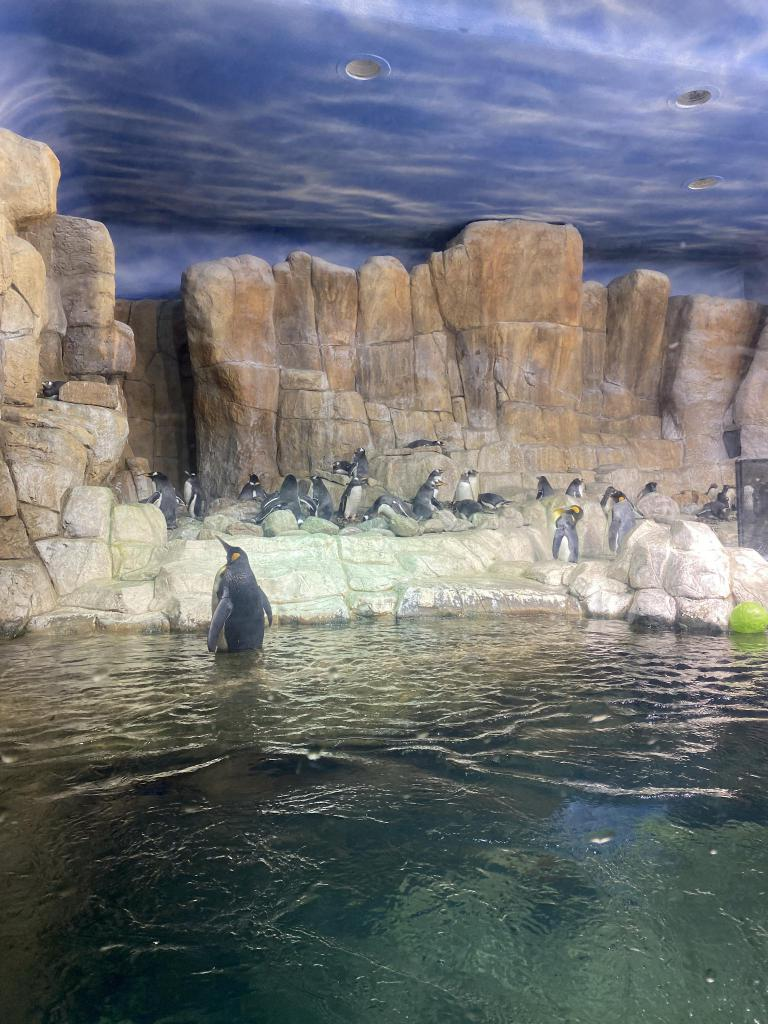penguin: (204, 532, 272, 652), (240, 474, 300, 524), (546, 504, 584, 564), (140, 470, 176, 530), (602, 492, 634, 558), (448, 496, 509, 522), (304, 474, 334, 522), (700, 478, 734, 520), (412, 478, 446, 518), (338, 478, 368, 520), (182, 468, 206, 520), (238, 471, 268, 503), (348, 446, 370, 480), (741, 477, 763, 511), (454, 472, 474, 504), (40, 380, 72, 398), (638, 480, 660, 504), (534, 476, 554, 498), (404, 439, 448, 449), (467, 469, 479, 503), (566, 478, 586, 498), (330, 460, 354, 476), (427, 468, 445, 480)
